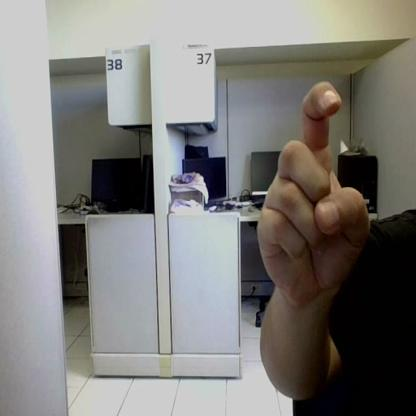X: (257, 81, 369, 299)
